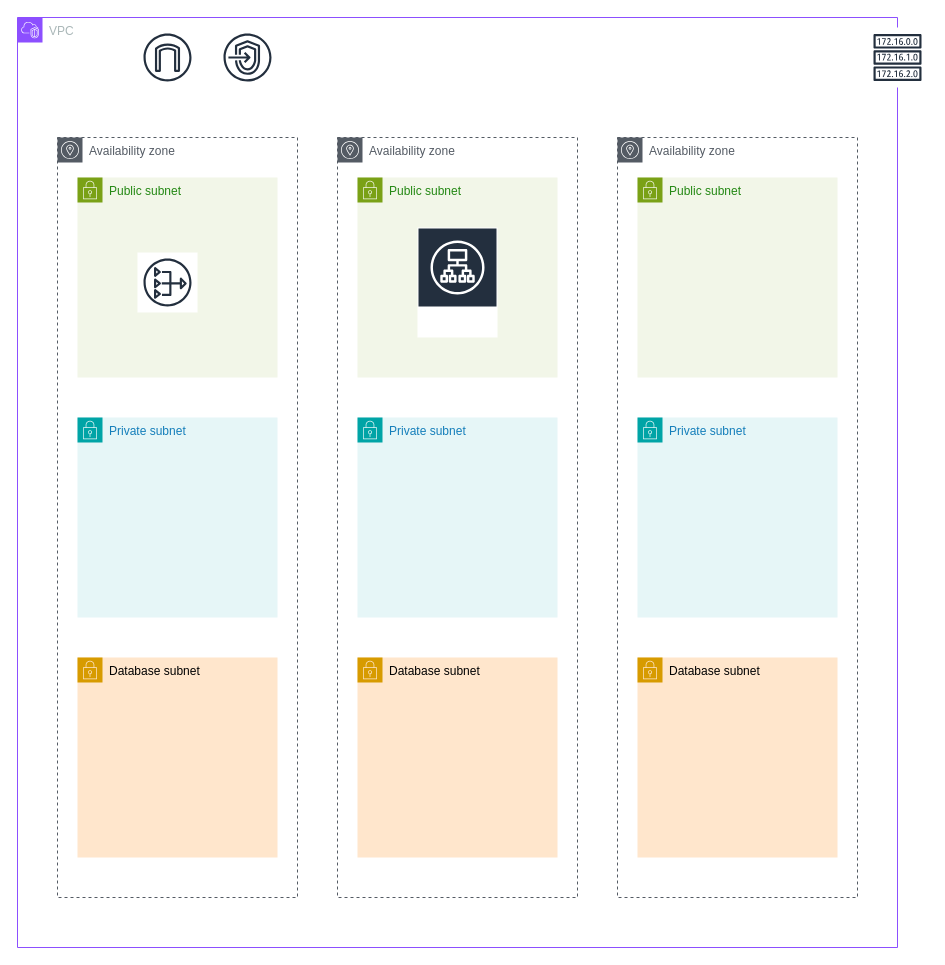
The diagram is 945 pixels wide and 965 high, and some of its shapes have lost their labels. The centre of each missing label's shape, as x and y in pixels:
"Application Load Balancer" belongs at pixel 457 282.
"Endpoints" belongs at pixel 247 57.
"Internet gateway" belongs at pixel 167 57.
"NAT gateway" belongs at pixel 167 282.
"Route table" belongs at pixel 897 57.
